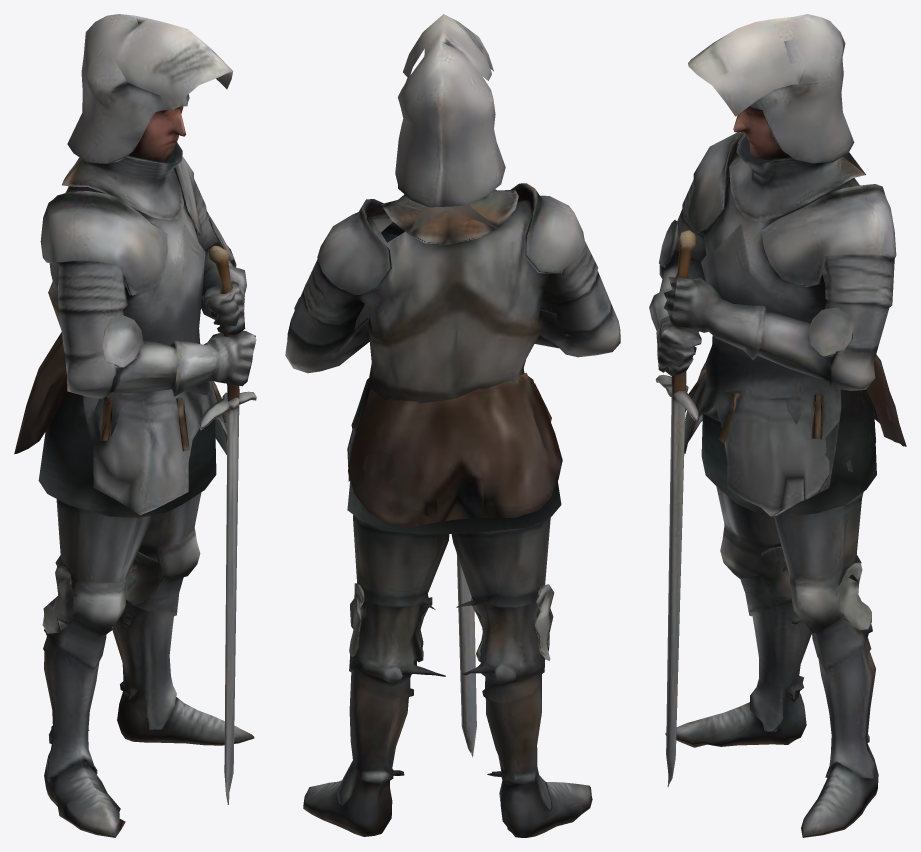
File: warrior_medieval_knight.glb
3 views of the same model, side by side, from view 1: azimuth 30°, elevation 25°; view 2: azimuth 150°, elevation 25°; view 3: azimuth 270°, elevation 25° (orthographic). The views are drawn at different scales.
Parts seen in each view (by area): view 1: warrior_medieval_knight; view 2: warrior_medieval_knight; view 3: warrior_medieval_knight.
Part boxes in pixels (<box>): warrior_medieval_knight: <box>14,14,256,837</box>; warrior_medieval_knight: <box>285,14,620,837</box>; warrior_medieval_knight: <box>649,14,906,837</box>.
Size of the model in its own units: 0.1714 by 0.5088 by 0.1558.
Materials: 1 (1 with a texture image).
